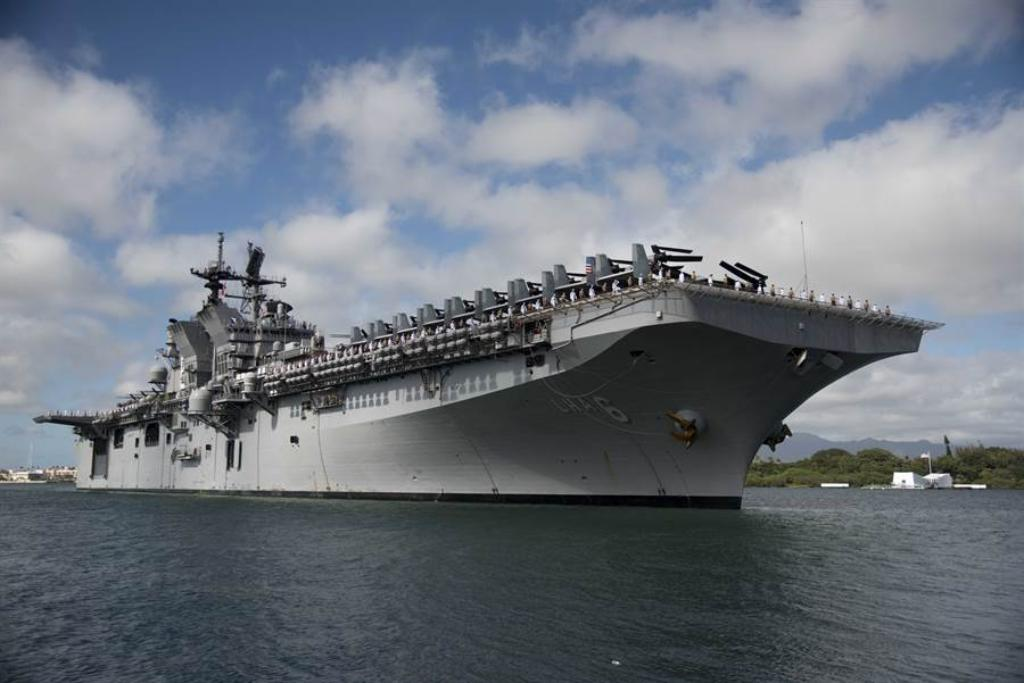Warship: (33, 232, 949, 510)
